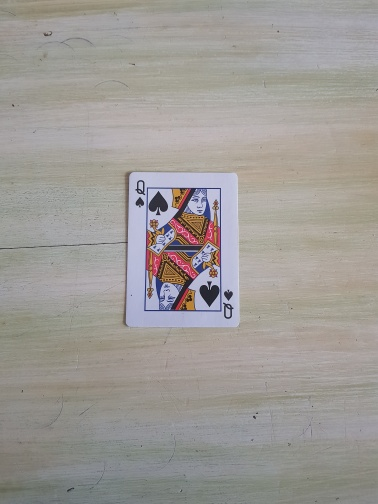queen: (125, 172, 240, 328)
